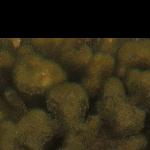dead: (4, 43, 146, 147)
